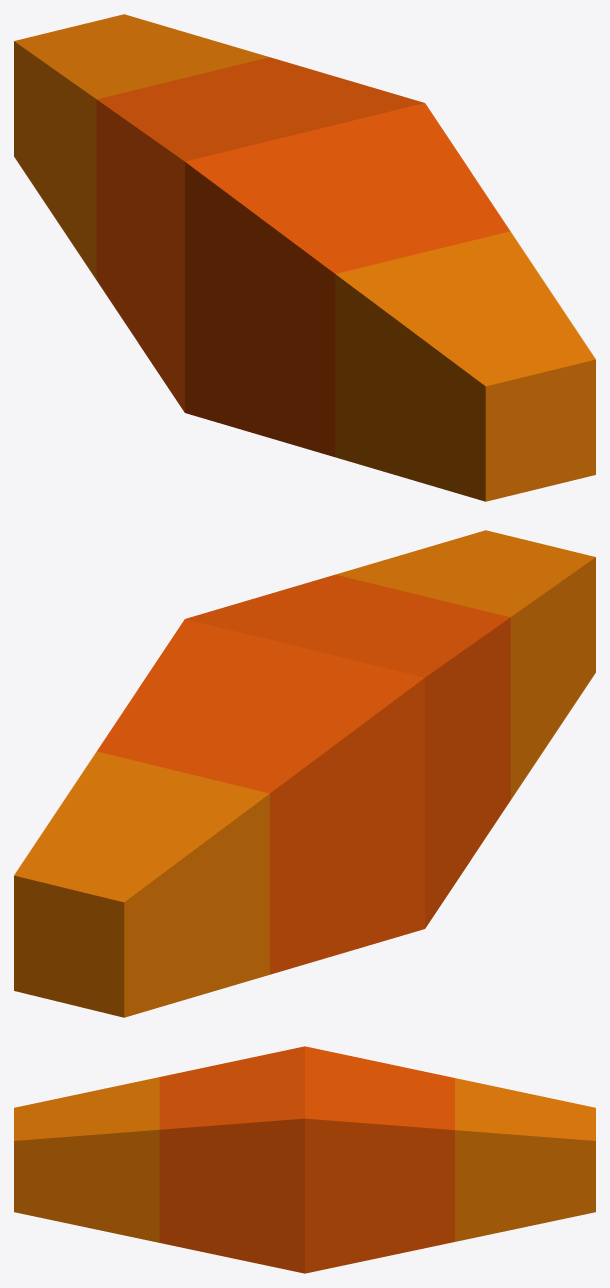
Rendered from 魔法子弹.fbx.
3 renders of one model, top to bottom at view 1: azimuth 30°, elevation 25°; view 2: azimuth 150°, elevation 25°; view 3: azimuth 270°, elevation 25°, orthographic. The views are drawn at different scales.
Visible parts, largest first — view 1: Cube; view 2: Cube; view 3: Cube.
Boxes of the visible parts, box(x1,y1,x2,y2) form: Cube: box(14, 14, 595, 501); Cube: box(14, 530, 595, 1017); Cube: box(14, 1046, 595, 1273).
Size of the model in its own units: 36.98 by 126 by 36.98.
